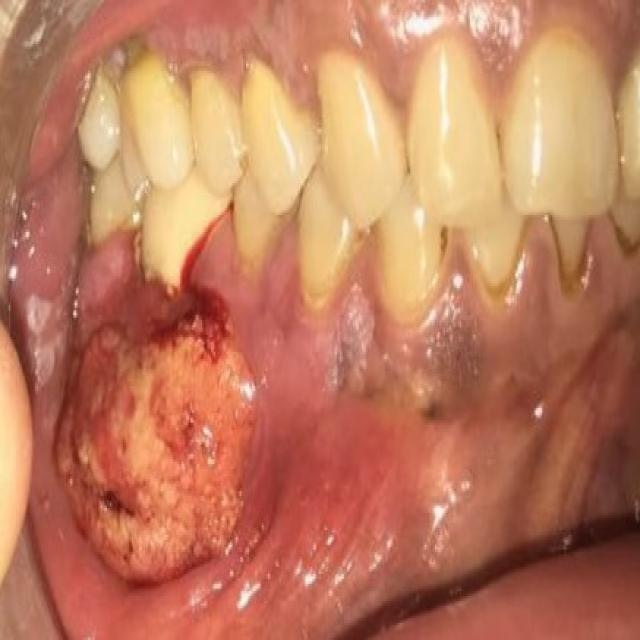cancer-detection: (17, 207, 273, 606)
processing_area: (1, 0, 639, 638)
